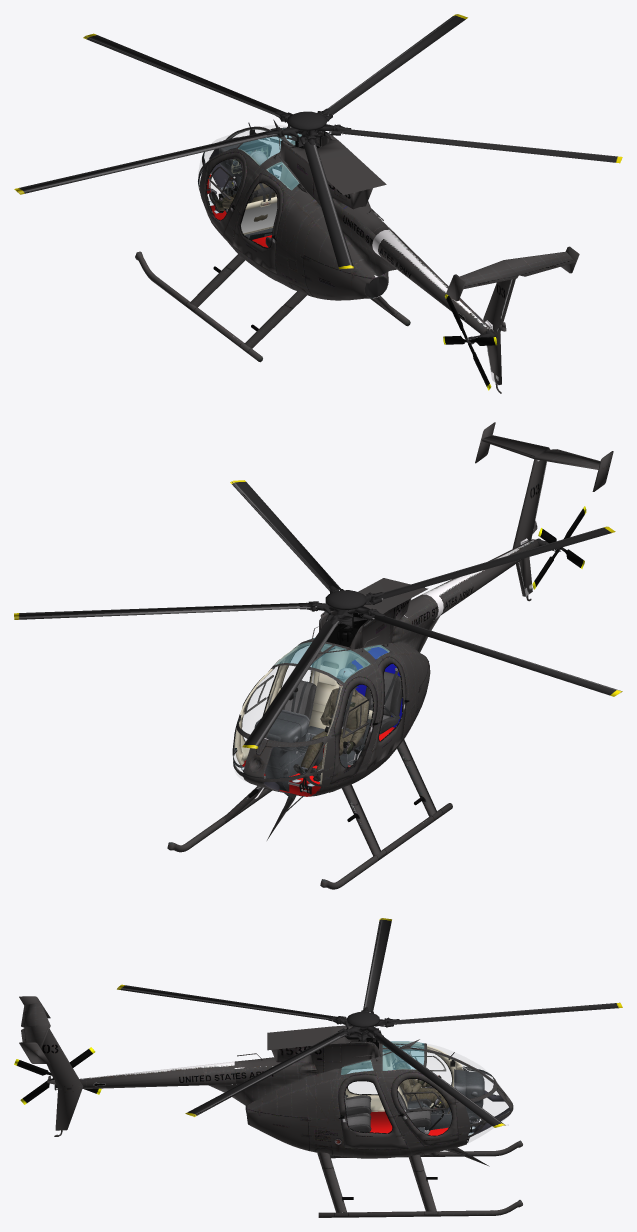
The picture shows the model from 3 angles, top to bottom: view 1: azimuth 30°, elevation 25°; view 2: azimuth 150°, elevation 25°; view 3: azimuth 270°, elevation 25°; orthographic projection. The views are drawn at different scales.
Visible parts, largest first — view 1: ext_fuse1.001, rotor_main, ext_fuse1, ext_fuse1_doors, ext_skids, glasss_grn, int_seats2, rotor_tail, int_console, int_pilotR, int_fuse2; view 2: rotor_main, ext_fuse1.001, ext_fuse1, ext_fuse1_doors, ext_skids, int_seats1, int_console, int_pilotR, glasss_grn, int_fuse3, int_fuse1, glass (+4 smaller); view 3: ext_fuse1.001, rotor_main, ext_fuse1, ext_fuse1_doors, ext_skids, int_seats1, glass, ext_fuse1.002, int_console, glasss_grn, int_pilotR, rotor_tail (+2 smaller).
Part boxes in pixels (x1,y1,x2,y2): ext_fuse1.001: [288, 149, 579, 393]; rotor_main: [14, 14, 622, 269]; ext_fuse1: [198, 119, 347, 282]; ext_fuse1_doors: [204, 152, 283, 273]; ext_skids: [135, 251, 410, 362]; glasss_grn: [238, 128, 301, 190]; int_seats2: [241, 196, 277, 239]; rotor_tail: [443, 294, 497, 390]; int_console: [206, 139, 271, 194]; int_pilotR: [209, 150, 276, 221]; int_fuse2: [198, 128, 285, 197]; rotor_main: [14, 480, 622, 748]; ext_fuse1.001: [358, 422, 613, 732]; ext_fuse1: [233, 604, 412, 798]; ext_fuse1_doors: [241, 645, 409, 783]; ext_skids: [167, 739, 452, 889]; int_seats1: [283, 662, 402, 754]; int_console: [254, 709, 324, 791]; int_pilotR: [293, 668, 369, 781]; glasss_grn: [274, 638, 389, 682]; int_fuse3: [309, 646, 370, 729]; int_fuse1: [234, 642, 389, 784]; glass: [234, 666, 310, 781]; ext_fuse1.001: [19, 996, 331, 1152]; rotor_main: [117, 918, 622, 1127]; ext_fuse1: [324, 1025, 513, 1149]; ext_fuse1_doors: [338, 1045, 458, 1149]; ext_skids: [317, 1140, 522, 1217]; int_seats1: [344, 1058, 431, 1132]; glass: [348, 1044, 508, 1143]; ext_fuse1.002: [325, 1137, 489, 1166]; int_console: [425, 1069, 484, 1132]; glasss_grn: [341, 1041, 424, 1074]; int_pilotR: [394, 1043, 449, 1108]; rotor_tail: [14, 1047, 101, 1104].
Bounding box in the file's own units: 7.48 × 2.89 × 9.2.
14 materials, 12 textured.
